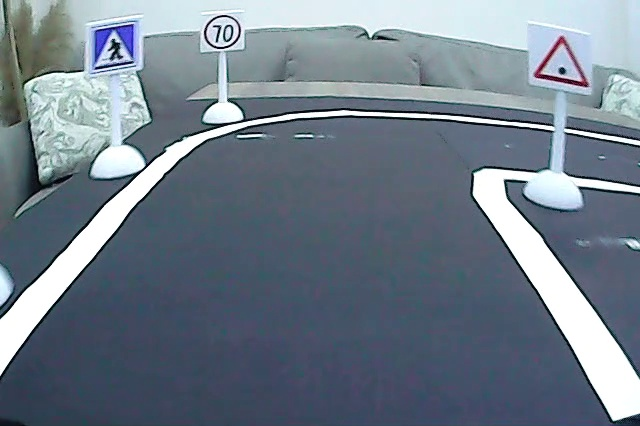green light: (527, 33, 592, 92)
pedestrian crossing: (89, 20, 140, 76)
speed limit 70: (198, 13, 247, 52)
